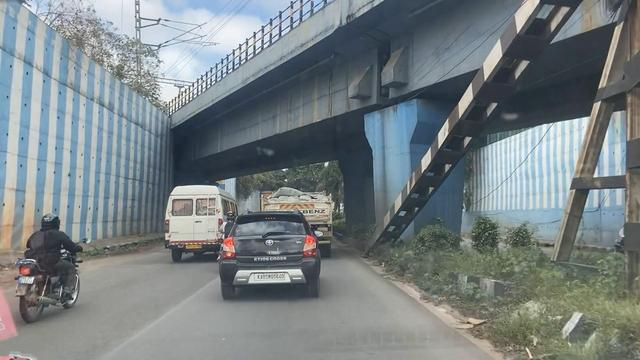HMV: (162, 186, 232, 266)
LMV: (11, 214, 103, 323), (219, 207, 322, 297)
